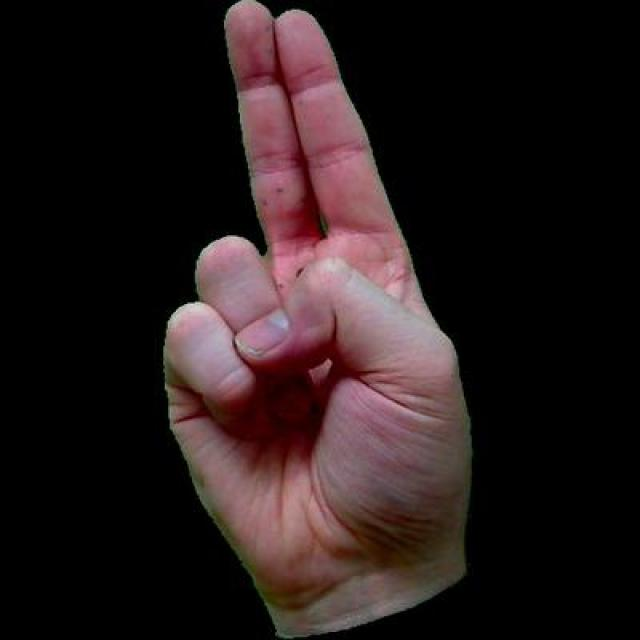u: (150, 0, 485, 637)
